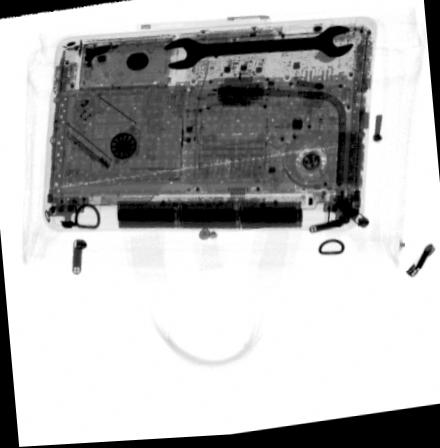Wrench: (160, 28, 354, 72)
